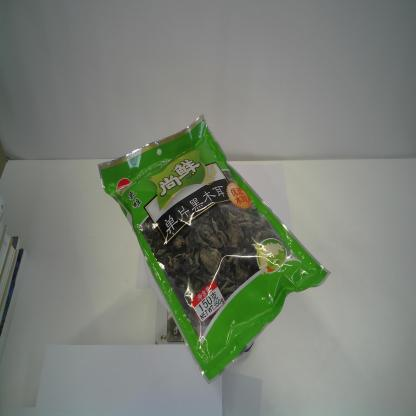Dried Food: (99, 113, 332, 384)
